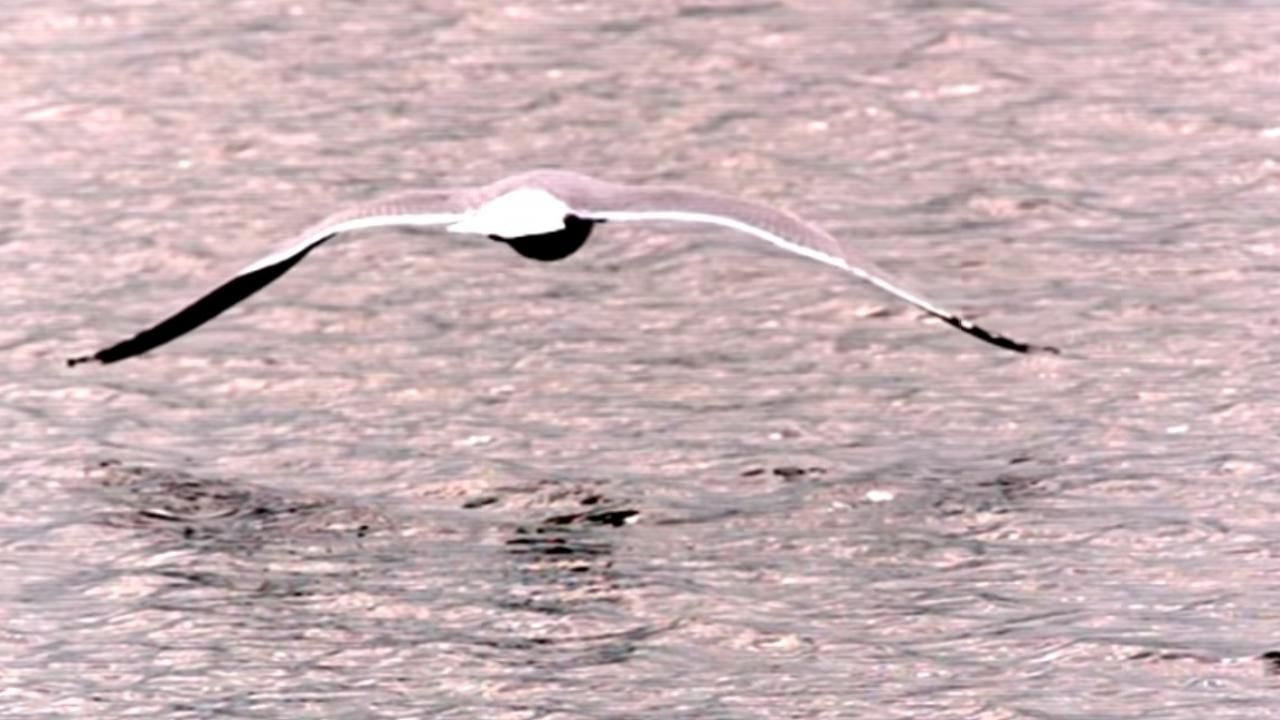Bird: (46, 150, 1084, 392)
